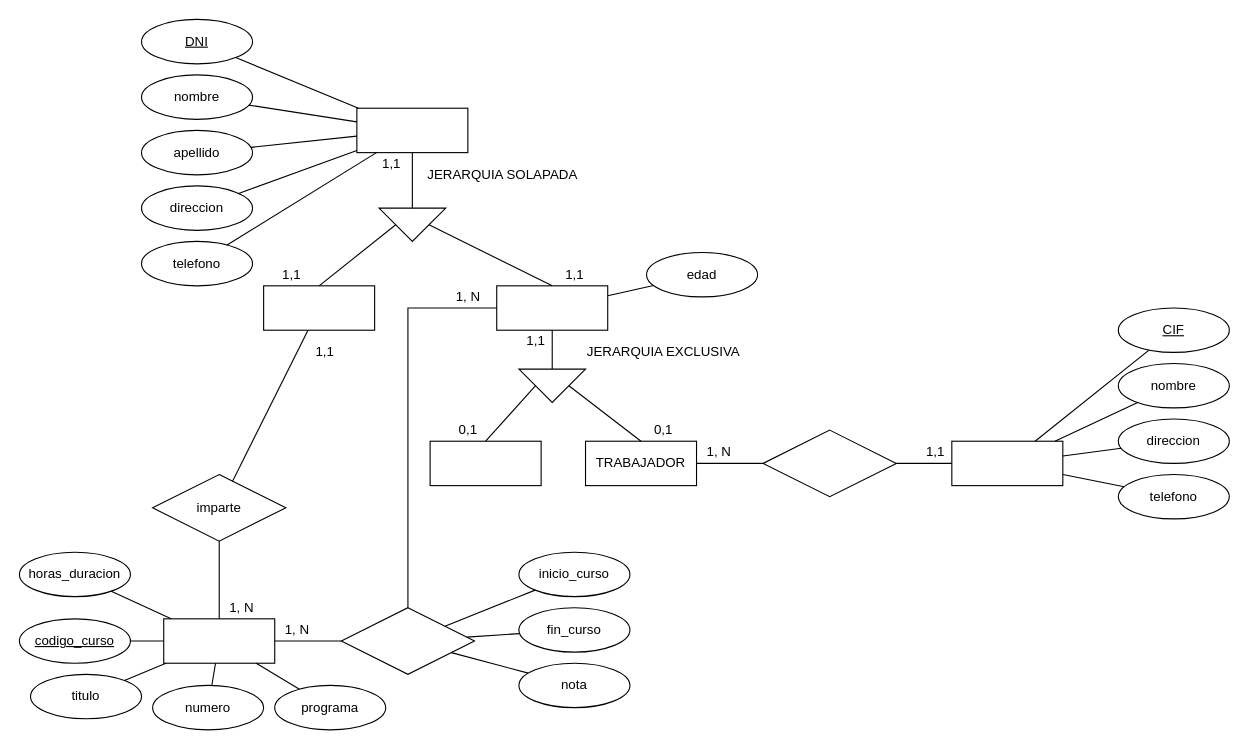
The diagram is 1249 pixels wide and 749 high, and some of its shapes have lost their labels. Each missing label, with the box of its shape:
ALUMNO: (496, 285, 608, 330)
asiste: (340, 607, 475, 674)
CURSO: (163, 618, 275, 663)
DESEMPLEADO: (429, 440, 541, 486)
EMPRESA: (951, 440, 1063, 486)
PERSONA: (356, 107, 468, 153)
PROFESOR: (263, 285, 375, 330)
trabaja: (762, 429, 896, 497)
